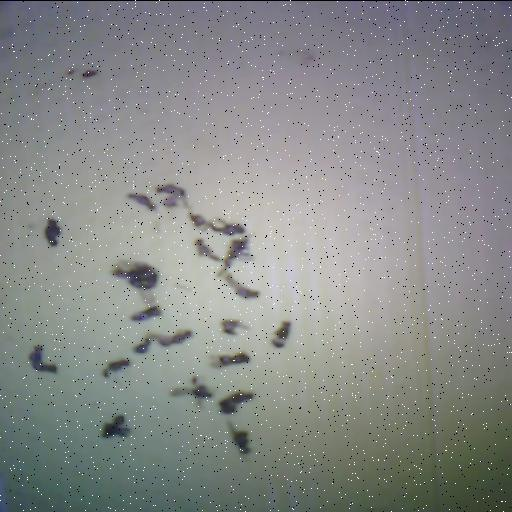Insects: (217, 236, 253, 276), (170, 377, 212, 408), (112, 262, 157, 288), (224, 275, 259, 298), (227, 421, 250, 456), (29, 346, 57, 373), (147, 330, 191, 347), (219, 392, 253, 414), (156, 185, 186, 207), (102, 416, 130, 438), (210, 353, 250, 368), (209, 218, 244, 235), (195, 239, 221, 261), (102, 360, 130, 377), (272, 321, 290, 347), (131, 306, 161, 321), (44, 218, 60, 246), (128, 194, 155, 210), (222, 320, 248, 335), (190, 213, 209, 231), (133, 338, 151, 354), (82, 70, 98, 78)
